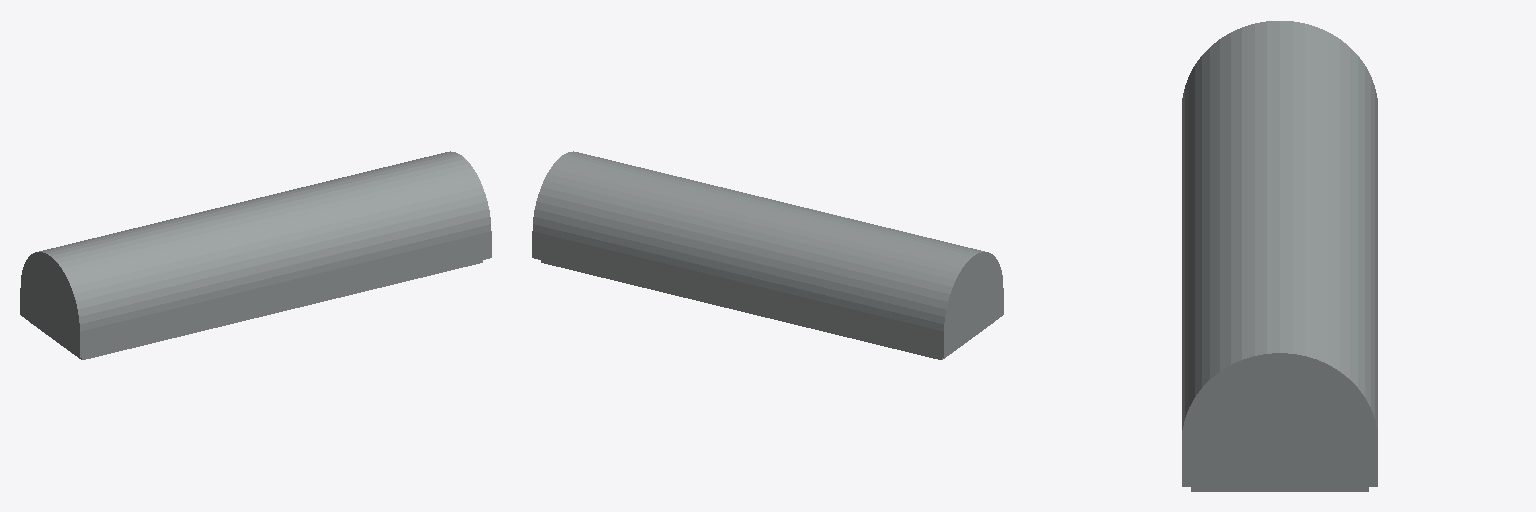
The robot description file, URDF, robot "79756__light_bluish_gray":
<?xml version="1.0"?>
<robot name="79756__light_bluish_gray">
  <link name="79756__light_bluish_gray">
    <inertial>
      <origin xyz="0.000000 -0.000000 0.002851" rpy="0 0 0"/>
      <mass value="0.001481"/>
      <inertia ixx="1.097430075e-08" ixy="-4.523643975e-25" ixz="5.654554969e-25" iyy="1.303915340e-07" iyz="-6.996742921e-26" izz="1.328430952e-07"/>
    </inertial>
    <visual>
      <geometry>
        <mesh filename="../meshes/visual/79756.obj" scale="1 1 1"/>
      </geometry>
      <material name="79756__light_bluish_gray_color">
        <color rgba="0.630 0.650 0.650 1.000"/>
      </material>
    </visual>
    <collision>
      <geometry>
        <mesh filename="../meshes/collision/79756_hull.obj" scale="1 1 1"/>
      </geometry>
    </collision>
  </link>
</robot>

--- What the picture shows (computed from the rendered views, not written in the file) ---
The picture shows the robot from 3 angles, left to right: view 1: azimuth 30°, elevation 25°; view 2: azimuth 150°, elevation 25°; view 3: azimuth 270°, elevation 25°; orthographic projection.
Model 79756__light_bluish_gray with 1 links and 0 joints (none), rooted at 79756__light_bluish_gray, posed all joints at 0.
Visible links, largest first — view 1: 79756__light_bluish_gray; view 2: 79756__light_bluish_gray; view 3: 79756__light_bluish_gray.
Link boxes in pixels (box(x1,y1,x2,y2)): 79756__light_bluish_gray: box(20, 151, 491, 359); 79756__light_bluish_gray: box(532, 151, 1003, 359); 79756__light_bluish_gray: box(1182, 21, 1377, 491).
Size in the robot's own frame: 0.032 by 0.008 by 0.0064 metres.
Meshes: 1 distinct files referenced, 1 mesh visuals loaded (1 OBJ).
